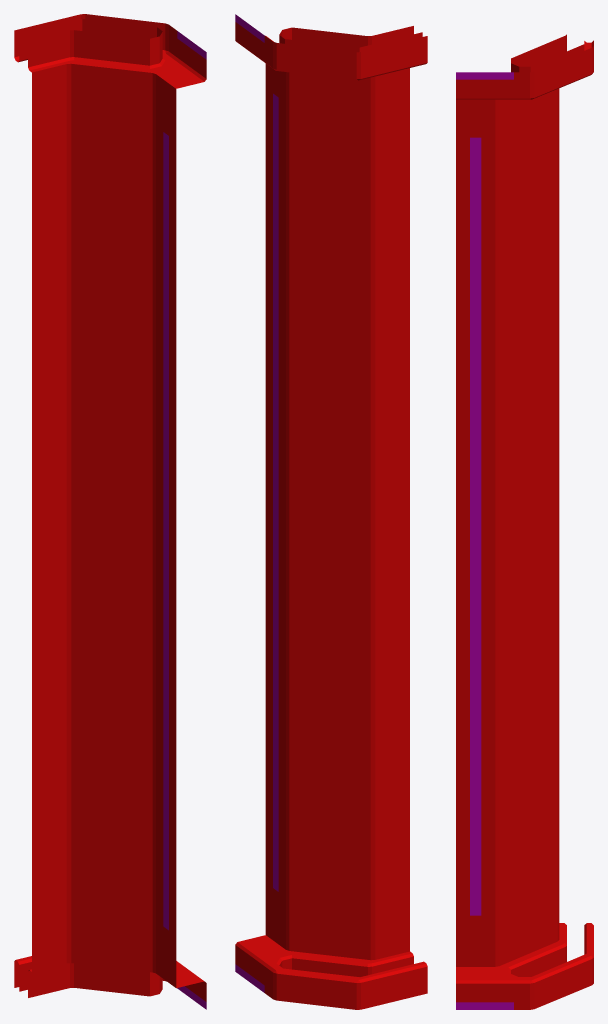
The model's file is MePlainteDroit_V2.FBX.
The picture shows the model from 3 angles, left to right: view 1: azimuth 30°, elevation 25°; view 2: azimuth 210°, elevation 25°; view 3: azimuth 270°, elevation 25°; orthographic projection. The views are drawn at different scales.
Visible parts, largest first — view 1: PlainteDroite; view 2: PlainteDroite; view 3: PlainteDroite.
Boxes of the visible parts, <box> form: PlainteDroite: <box>14,14,206,1009</box>; PlainteDroite: <box>235,14,427,1009</box>; PlainteDroite: <box>456,34,593,1009</box>.
Size of the model in its own units: 20 by 20 by 150.
